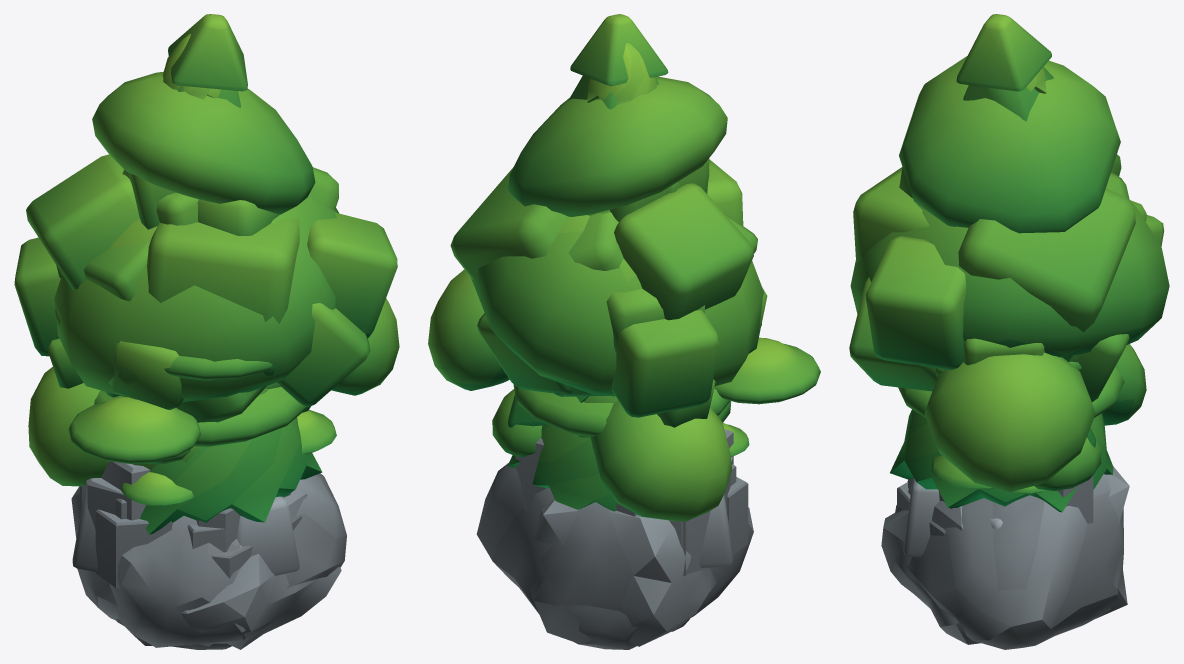
File: nature.glb
3 renders of one model, left to right at view 1: azimuth 30°, elevation 25°; view 2: azimuth 150°, elevation 25°; view 3: azimuth 270°, elevation 25°, orthographic. The views are drawn at different scales.
Visible parts, largest first — view 1: Tree_2_E_Color1, Tree_1_C_Color1, Tree_7_C_Color1, Rock_3_R_Color1, Tree_5_C_Color1, Tree_3_C_Color1, Rock_3_Q_Color1, Tree_3_B_Color1, Tree_4_C_Color1, Rock_1_J_Color1, Tree_2_D_Color1, Rock_1_M_Color1 (+4 smaller); view 2: Tree_1_C_Color1, Tree_2_E_Color1, Tree_7_C_Color1, Rock_3_Q_Color1, Rock_3_R_Color1, Tree_4_C_Color1, Tree_5_C_Color1, Tree_3_C_Color1, Tree_3_B_Color1, Tree_2_D_Color1, Rock_1_M_Color1, Tree_1_B_Color1 (+4 smaller); view 3: Tree_1_C_Color1, Tree_2_E_Color1, Tree_7_C_Color1, Rock_3_R_Color1, Tree_4_C_Color1, Tree_5_C_Color1, Rock_3_Q_Color1, Rock_2_E_Color1, Tree_1_B_Color1, Tree_3_B_Color1, Tree_3_C_Color1, Rock_1_M_Color1 (+1 smaller).
Part boxes in pixels (x1,y1,x2,y2): Tree_2_E_Color1: (14, 154, 397, 422); Tree_1_C_Color1: (28, 193, 399, 486); Tree_7_C_Color1: (92, 71, 315, 463); Rock_3_R_Color1: (110, 473, 346, 647); Tree_5_C_Color1: (140, 417, 322, 534); Tree_3_C_Color1: (68, 355, 336, 463); Rock_3_Q_Color1: (71, 486, 341, 649); Tree_3_B_Color1: (94, 387, 306, 506); Tree_4_C_Color1: (122, 14, 247, 178); Rock_1_J_Color1: (82, 461, 252, 578); Tree_2_D_Color1: (56, 193, 198, 301); Rock_1_M_Color1: (79, 486, 172, 587); Tree_1_C_Color1: (428, 215, 763, 521); Tree_2_E_Color1: (450, 158, 767, 417); Tree_7_C_Color1: (508, 76, 730, 422); Rock_3_Q_Color1: (530, 499, 716, 646); Rock_3_R_Color1: (476, 463, 753, 649); Tree_4_C_Color1: (508, 14, 681, 427); Tree_5_C_Color1: (507, 424, 616, 511); Tree_3_C_Color1: (714, 337, 820, 404); Tree_3_B_Color1: (513, 384, 749, 456); Tree_2_D_Color1: (552, 169, 757, 396); Rock_1_M_Color1: (515, 438, 748, 576); Tree_1_B_Color1: (492, 389, 618, 457); Tree_1_C_Color1: (850, 203, 1169, 491); Tree_2_E_Color1: (849, 154, 1164, 402); Tree_7_C_Color1: (899, 56, 1120, 233); Rock_3_R_Color1: (895, 474, 1123, 649); Tree_4_C_Color1: (956, 14, 1095, 447); Tree_5_C_Color1: (890, 409, 1113, 512); Rock_3_Q_Color1: (881, 466, 1129, 644); Rock_2_E_Color1: (903, 477, 939, 557); Tree_1_B_Color1: (1034, 437, 1101, 490); Tree_3_B_Color1: (898, 364, 1124, 417); Tree_3_C_Color1: (931, 361, 1081, 493); Rock_1_M_Color1: (1058, 475, 1093, 523).
Size of the model in its own units: 7.18 by 12.16 by 5.77.
1 material, 1 textured.
